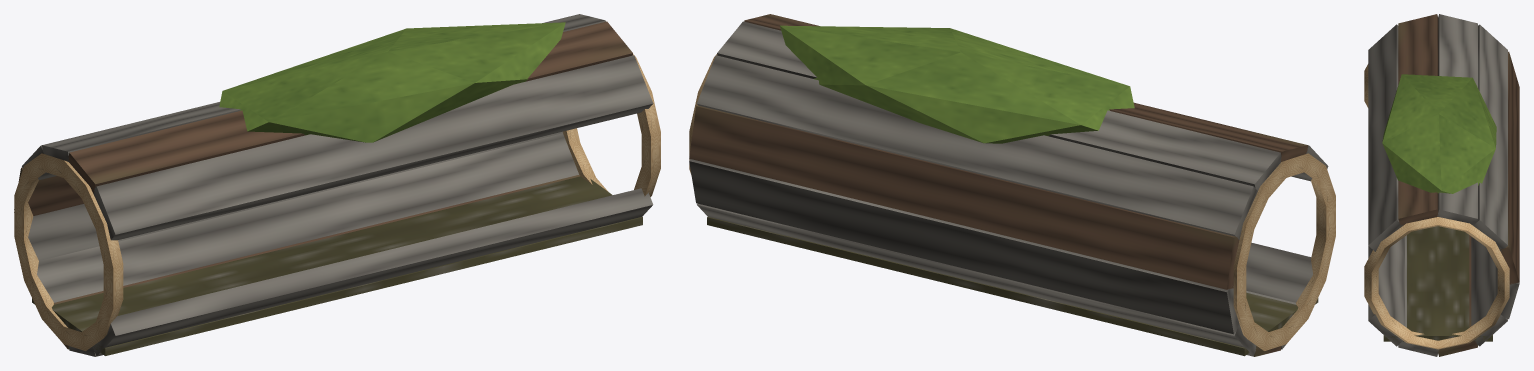
The model's file is SM_Landmark_GiantLog_LOD1.fbx.
3 views of the same model, side by side, from view 1: azimuth 30°, elevation 25°; view 2: azimuth 150°, elevation 25°; view 3: azimuth 270°, elevation 25° (orthographic). The views are drawn at different scales.
Visible parts, largest first — view 1: SM_Landmark_GiantLog_LOD1; view 2: SM_Landmark_GiantLog_LOD1; view 3: SM_Landmark_GiantLog_LOD1.
Part boxes in pixels (<box>): SM_Landmark_GiantLog_LOD1: <box>14,14,660,356</box>; SM_Landmark_GiantLog_LOD1: <box>689,14,1335,356</box>; SM_Landmark_GiantLog_LOD1: <box>1364,14,1519,356</box>.
Size of the model in its own units: 22.6 by 8.6 by 7.38.
1 material, 1 textured.
